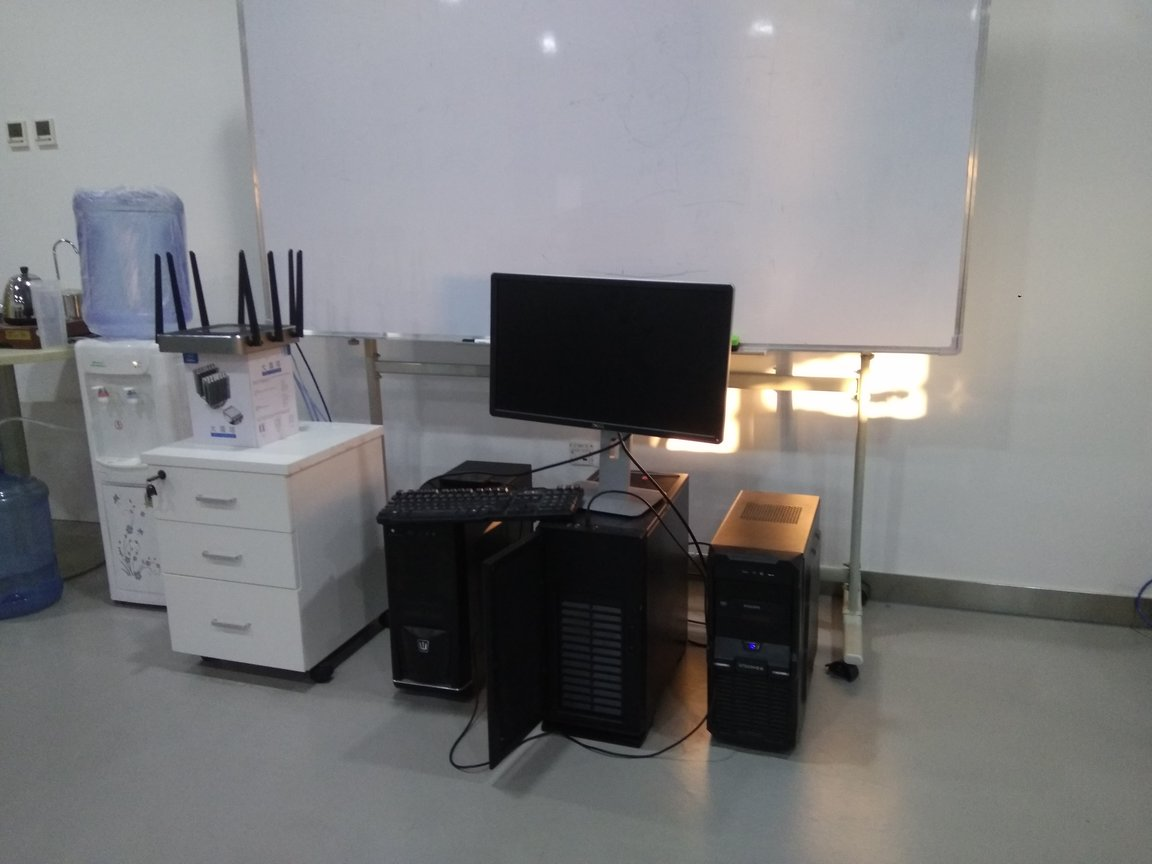computer: (492, 466, 688, 772), (381, 458, 536, 709), (702, 483, 829, 768)
drawer chest: (135, 417, 391, 694)
monitor: (483, 266, 737, 520)
scuttlebutt: (59, 182, 201, 344), (4, 463, 60, 632)
water dispenser: (69, 328, 209, 622)
